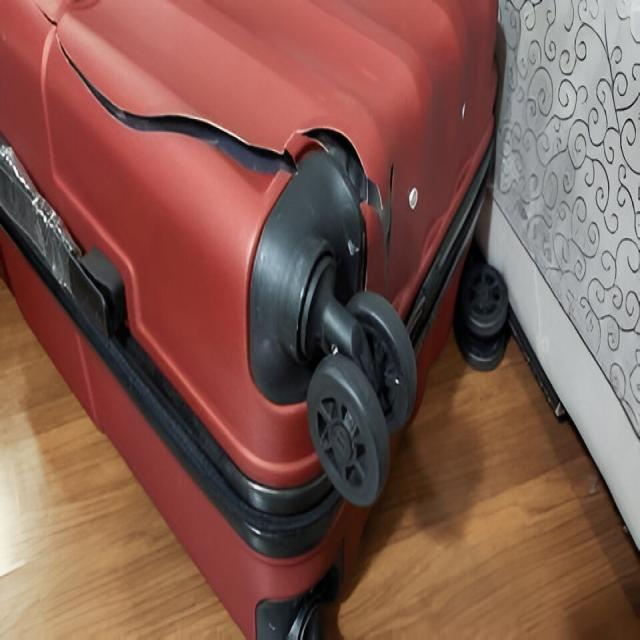Damage-bag: (35, 0, 395, 281)
